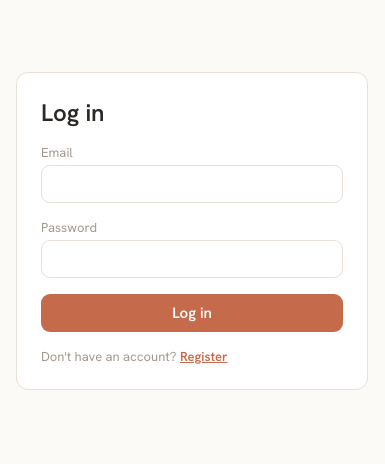
Test: LoginPage › offers to resend verification for an unverified account
Type "me@example.com" into the field labelled "Email".
click(192, 184); type("me@example.com")  # box [41,165,343,203]
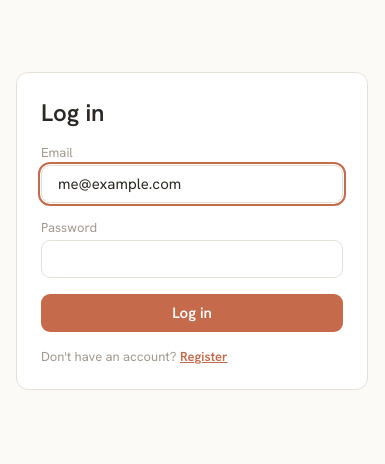
Type "secret" into the password field labelled "Password".
click(192, 259); type("secret")  # box [41,240,343,278]
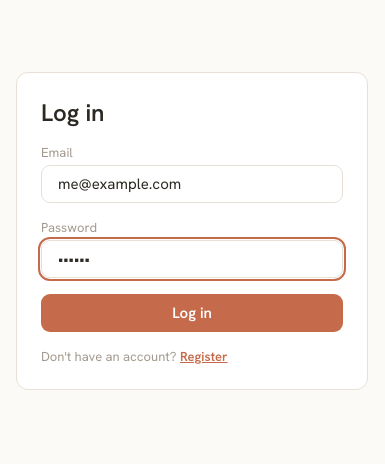
Click the button "Log in".
click(192, 313)  # box [41,294,343,332]
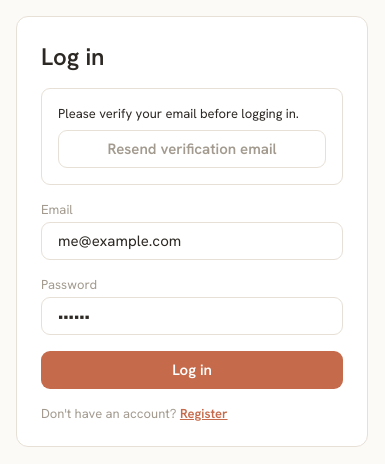
Click the button "Resend verification email".
click(192, 148)  # box [58,130,326,168]
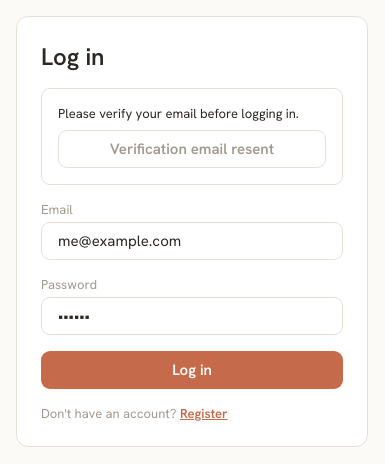
Expected: the button "Verification email resent" is disabled, [58,130,326,168]
